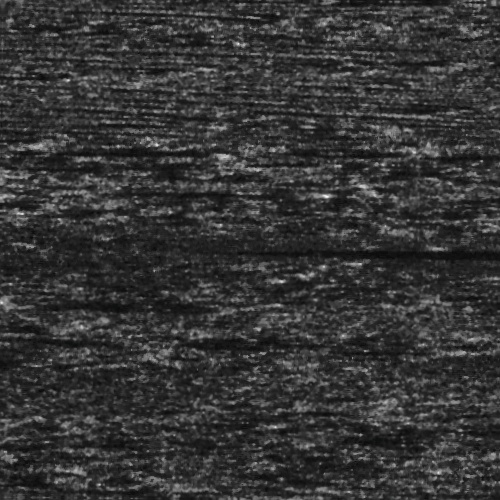object: (408, 344, 481, 353), (293, 187, 346, 196), (212, 144, 253, 155), (212, 300, 253, 309), (0, 190, 15, 199)
shadow: (170, 246, 500, 253), (56, 144, 232, 155), (60, 300, 233, 309), (148, 187, 320, 196), (338, 344, 444, 353)
